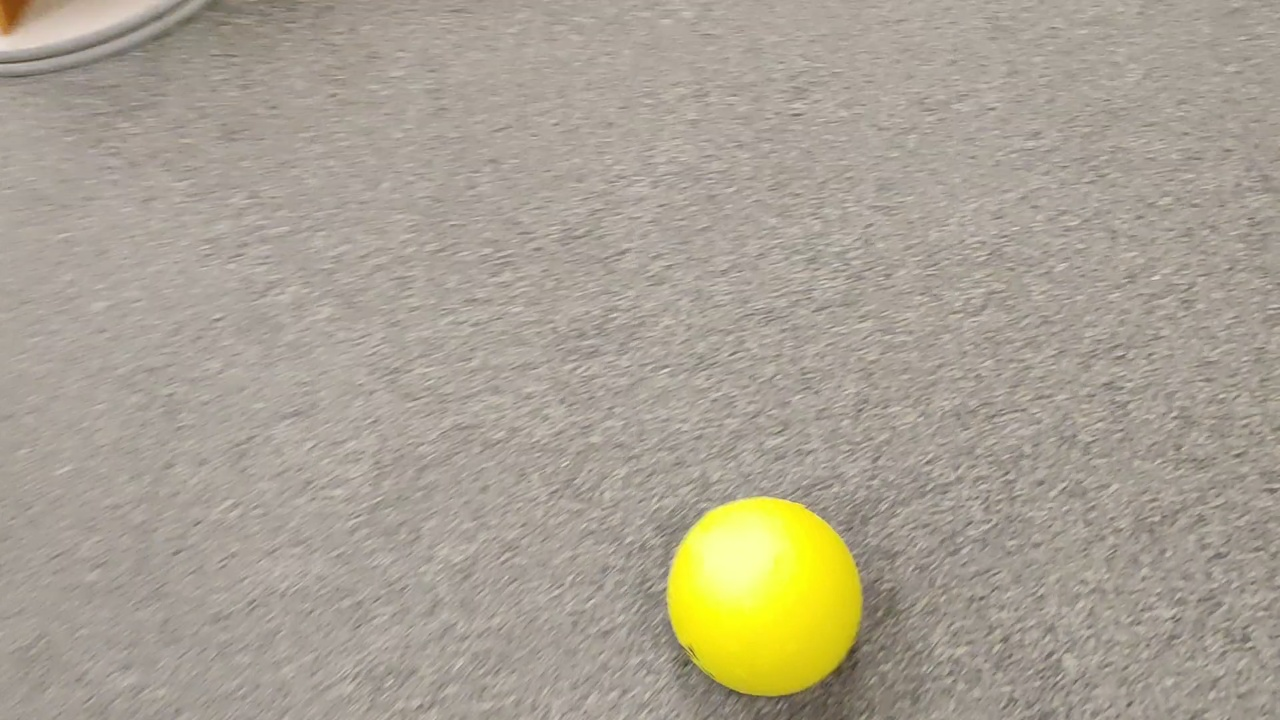Ball: (671, 497, 866, 697)
